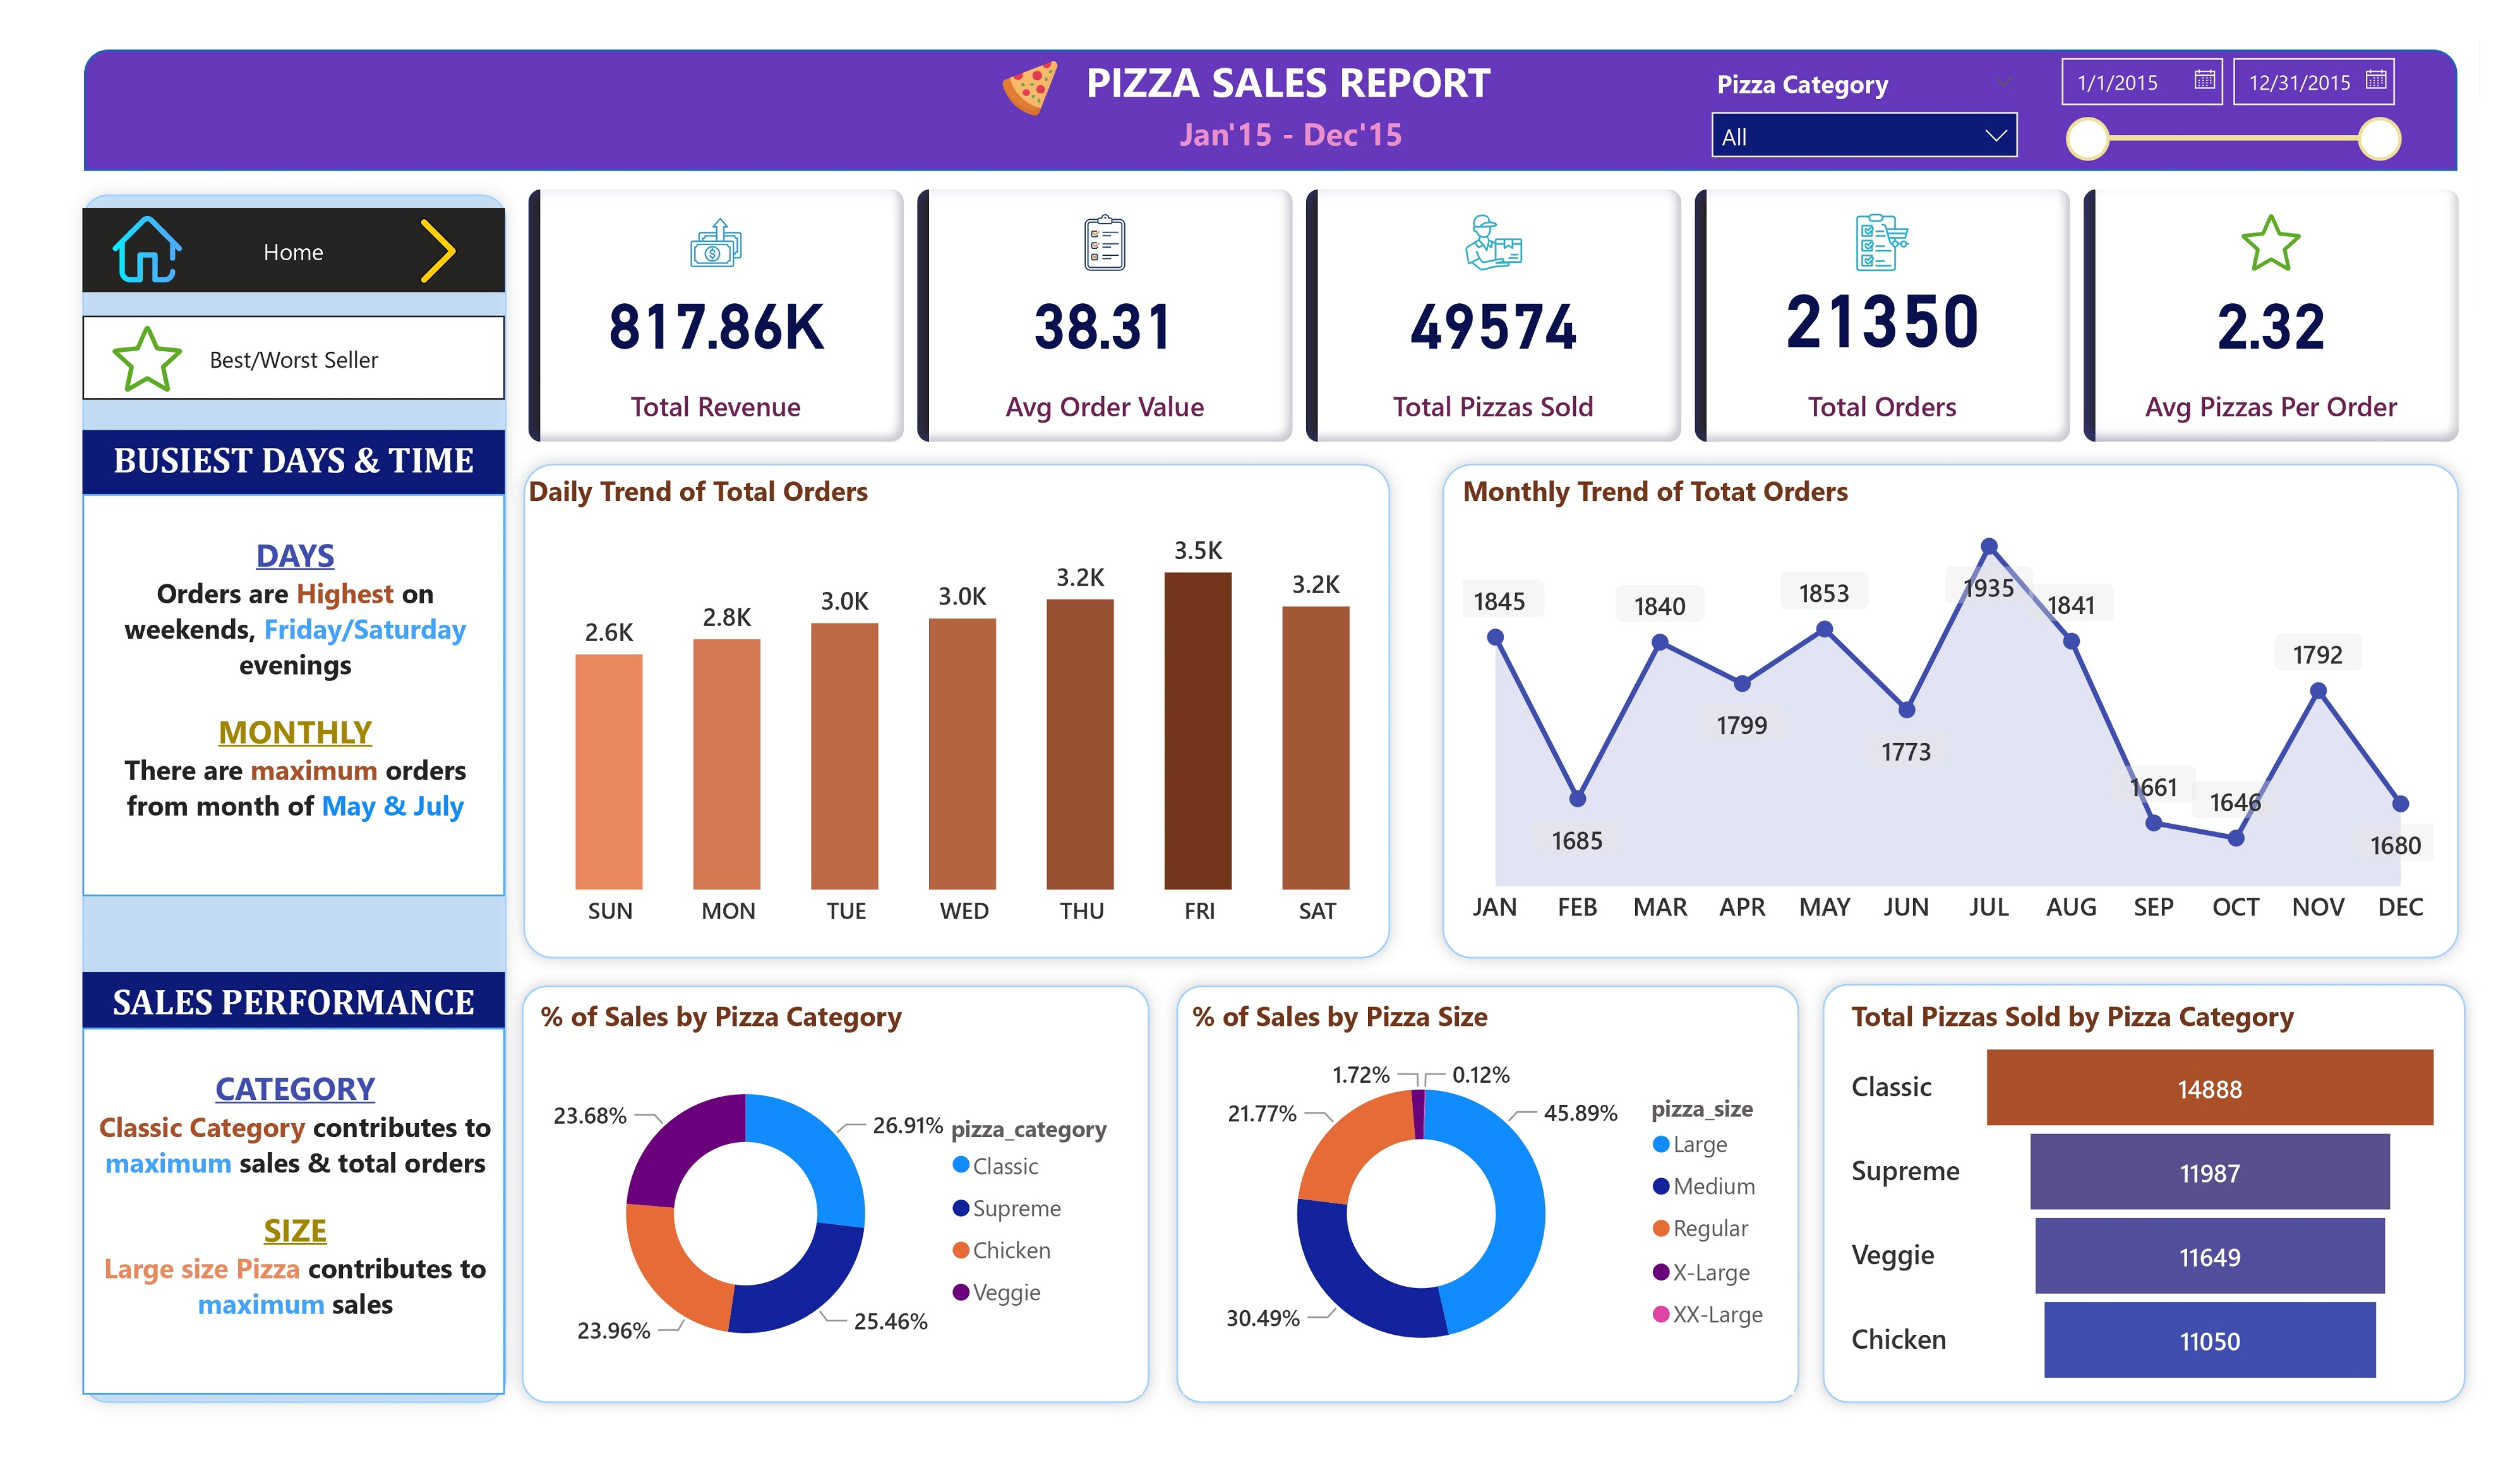

What the dashboard file says about the page in this screenshot:
{"tool":"powerbi","page":{"name":"Home","canvas":[1450,825],"ordinal":0},"visuals":[{"type":"cardVisual","fields":{"Data":["pizza_sales.Total Revenue","pizza_sales.Avg Order Value","pizza_sales.Total Pizzas Sold","pizza_sales.Total Orders","pizza_sales.Avg Pizzas Per Order"]},"box":[285,82.5,1159.5,160.5],"z":0},{"type":"shape","box":[25.5,4.5,1410,72],"z":1000},{"type":"textbox","box":[565.5,1.5,351,43.5],"z":2000},{"type":"textbox","box":[649.6,37.2,187.2,40],"z":3000},{"type":"shape","box":[278.8,242.5,531.3,310.2],"z":4000},{"type":"columnChart","title":"Daily Trend of Total Orders","fields":{"Category":["pizza_sales.Order Day"],"Y":["pizza_sales.Total Orders"]},"box":[295.7,273.3,514.1,278.4],"z":5000},{"type":"shape","box":[825,242.5,620.4,310.2],"z":6000},{"type":"areaChart","title":"Monthly Trend of Totat Orders","fields":{"Category":["pizza_sales.Order Month"],"Y":["pizza_sales.Total Orders"]},"box":[839.9,255.8,587.4,278.8],"z":7000},{"type":"shape","box":[16.5,82.5,268.9,734.2],"z":8000},{"type":"shape","box":[278.2,552.7,388.9,264.7],"z":9000},{"type":"shape","box":[667.4,552.8,385.6,264.7],"z":10000},{"type":"shape","box":[1050.7,552.3,398.7,264.7],"z":11000},{"type":"donutChart","title":"% of Sales by Pizza Category","fields":{"Category":["pizza_sales.pizza_category"],"Y":["pizza_sales.Total Revenue"]},"box":[292.2,568.1,363,235.9],"z":12000},{"type":"donutChart","title":"% of Sales by Pizza Size","fields":{"Y":["pizza_sales.Total Revenue"],"Category":["pizza_sales.pizza_size"]},"box":[678.7,568.1,363,235.9],"z":13000},{"type":"funnel","title":"Total Pizzas Sold by Pizza Category","fields":{"Category":["pizza_sales.pizza_category"],"Y":["pizza_sales.Total Pizzas Sold"]},"box":[1070.8,567.6,361.3,235.9],"z":14000},{"type":"image","box":[565.6,0.6,44.5,54.4],"z":15000},{"type":"textbox","box":[24.8,231,250.8,37.9],"z":16000},{"type":"textbox","box":[24.8,268.9,250.8,239.2],"z":17000},{"type":"textbox","box":[24.8,552.8,250.8,37.9],"z":18000},{"type":"textbox","box":[24.8,585.8,250.8,217.8],"z":19000},{"type":"slicer","fields":{"Values":["pizza_sales.pizza_category"]},"box":[983.4,9.9,201.3,62.7],"z":20000},{"type":"slicer","fields":{"Values":["pizza_sales.order_date"]},"box":[1188,0,222.8,72.6],"z":21000},{"type":"pageNavigator","box":[24.8,99,250.8,49.5],"z":22000},{"type":"pageNavigator","box":[24.8,163.3,250.8,49.5],"z":23000},{"type":"image","box":[211.5,99,49.5,51],"z":24000},{"type":"image","box":[37.9,92.4,51.1,62.7],"z":25000},{"type":"image","box":[37.9,156.8,51.1,62.7],"z":26000}]}

Visuals, with their boxes in screenshot pixels (x1, y1, x2, y2), scaled from the page's 1450x825 canvas onto the 2520x1470 screenshot:
cardVisual - pizza_sales.Total Revenue x pizza_sales.Avg Order Value: 495, 147, 2511, 433
shape: 44, 8, 2495, 136
textbox: 983, 3, 1593, 80
textbox: 1129, 66, 1455, 138
shape: 484, 432, 1408, 985
"Daily Trend of Total Orders" columnChart: 514, 487, 1407, 983
shape: 1434, 432, 2512, 985
"Monthly Trend of Totat Orders" areaChart: 1460, 456, 2481, 953
shape: 28, 147, 496, 1455
shape: 484, 985, 1160, 1457
shape: 1160, 985, 1830, 1457
shape: 1826, 984, 2519, 1455
"% of Sales by Pizza Category" donutChart: 508, 1012, 1139, 1433
"% of Sales by Pizza Size" donutChart: 1180, 1012, 1810, 1433
"Total Pizzas Sold by Pizza Category" funnel: 1861, 1011, 2489, 1431
image: 983, 1, 1060, 98
textbox: 43, 412, 479, 479
textbox: 43, 479, 479, 905
textbox: 43, 985, 479, 1052
textbox: 43, 1044, 479, 1432
slicer - pizza_sales.pizza_category: 1709, 18, 2059, 130
slicer - pizza_sales.order_date: 2065, 0, 2452, 130
pageNavigator: 43, 176, 479, 265
pageNavigator: 43, 291, 479, 379
image: 368, 176, 453, 267
image: 66, 165, 155, 276
image: 66, 279, 155, 391
